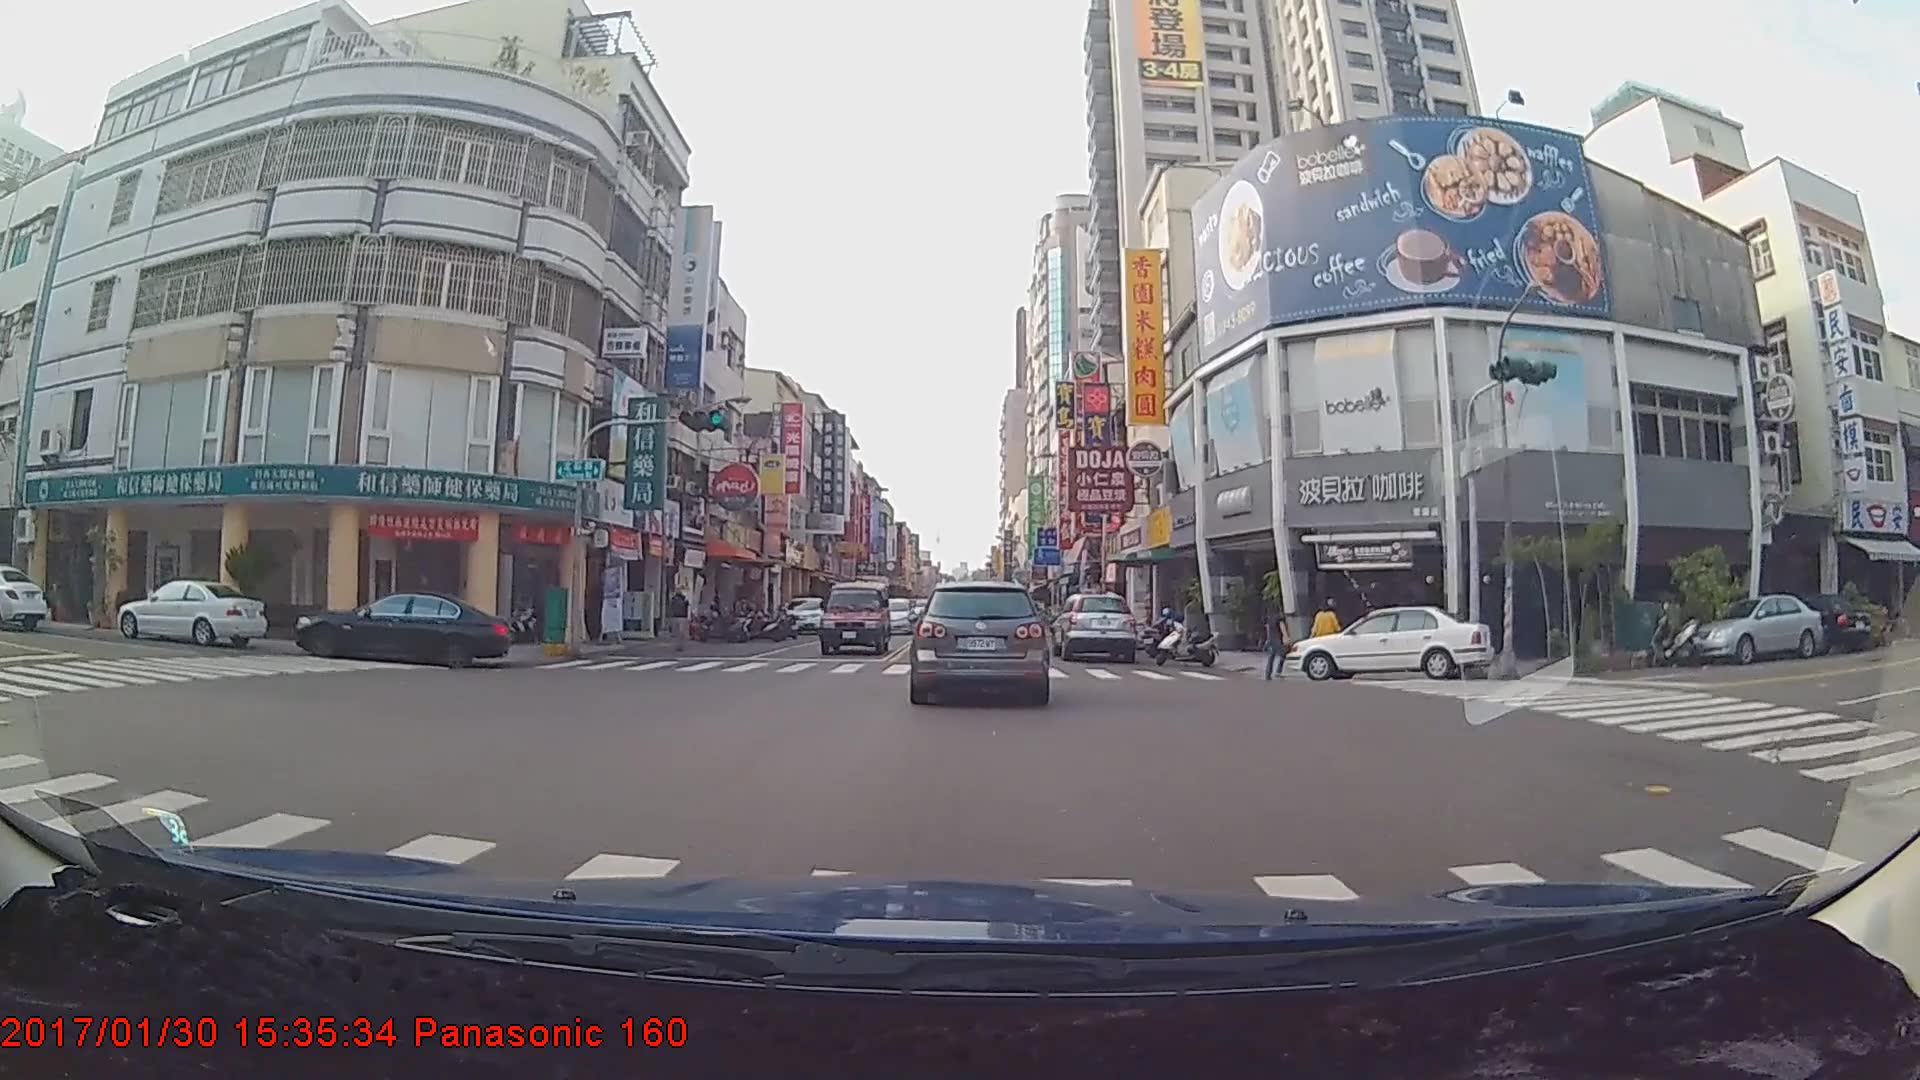pedestrian: (1262, 596, 1293, 679), (1310, 597, 1343, 675), (667, 585, 694, 652)
vehicle: (292, 588, 510, 667), (912, 579, 1047, 703), (1289, 603, 1492, 680), (117, 578, 266, 651), (1687, 592, 1823, 663), (1051, 590, 1135, 661), (817, 578, 890, 654), (0, 560, 71, 631), (780, 594, 827, 634), (869, 594, 913, 634)
